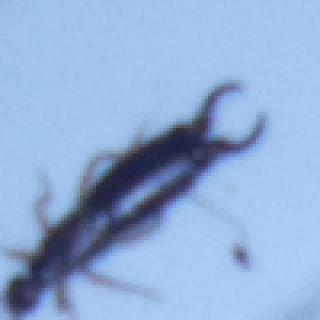earwig: (0, 77, 266, 320)
